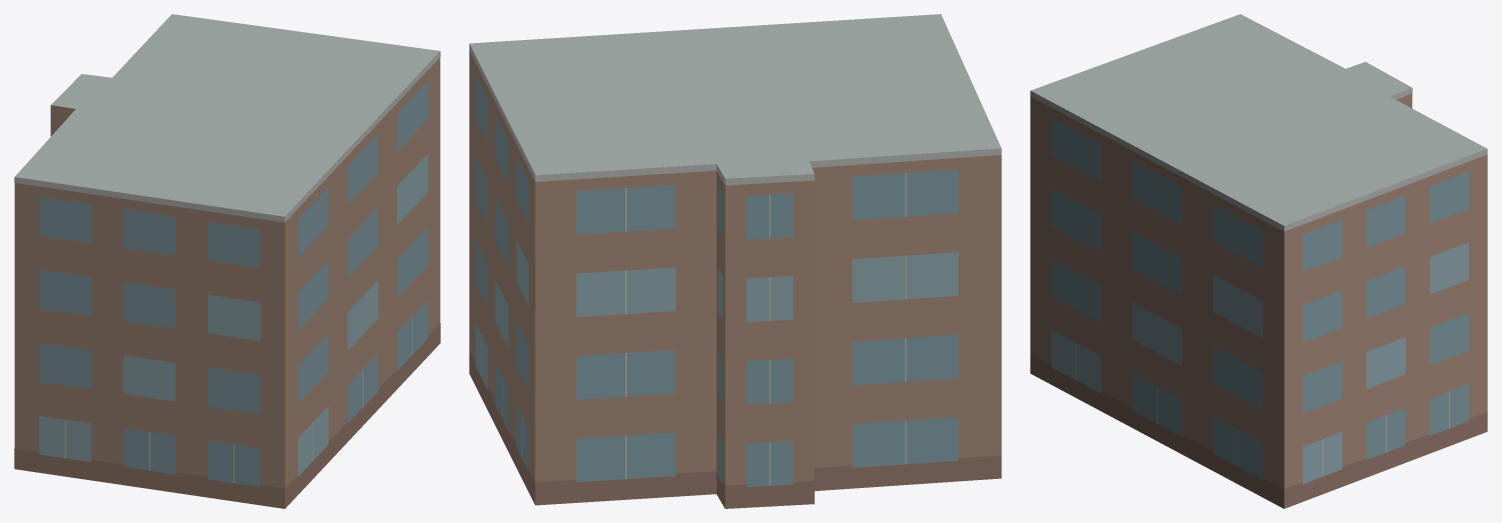
Rendered from survey-upis-32780481.glb.
3 renders of one model, left to right at view 1: azimuth 30°, elevation 25°; view 2: azimuth 150°, elevation 25°; view 3: azimuth 270°, elevation 25°, orthographic. The views are drawn at different scales.
Visible parts, largest first — view 1: survey-upis-32780481.tmp; view 2: survey-upis-32780481.tmp; view 3: survey-upis-32780481.tmp.
Boxes of the visible parts, box(x1,y1,x2,y2) form: survey-upis-32780481.tmp: box(14, 14, 440, 508); survey-upis-32780481.tmp: box(469, 14, 1001, 508); survey-upis-32780481.tmp: box(1030, 14, 1487, 508).
Bounding box in the file's own units: 19.61 × 12.2 × 17.88.
